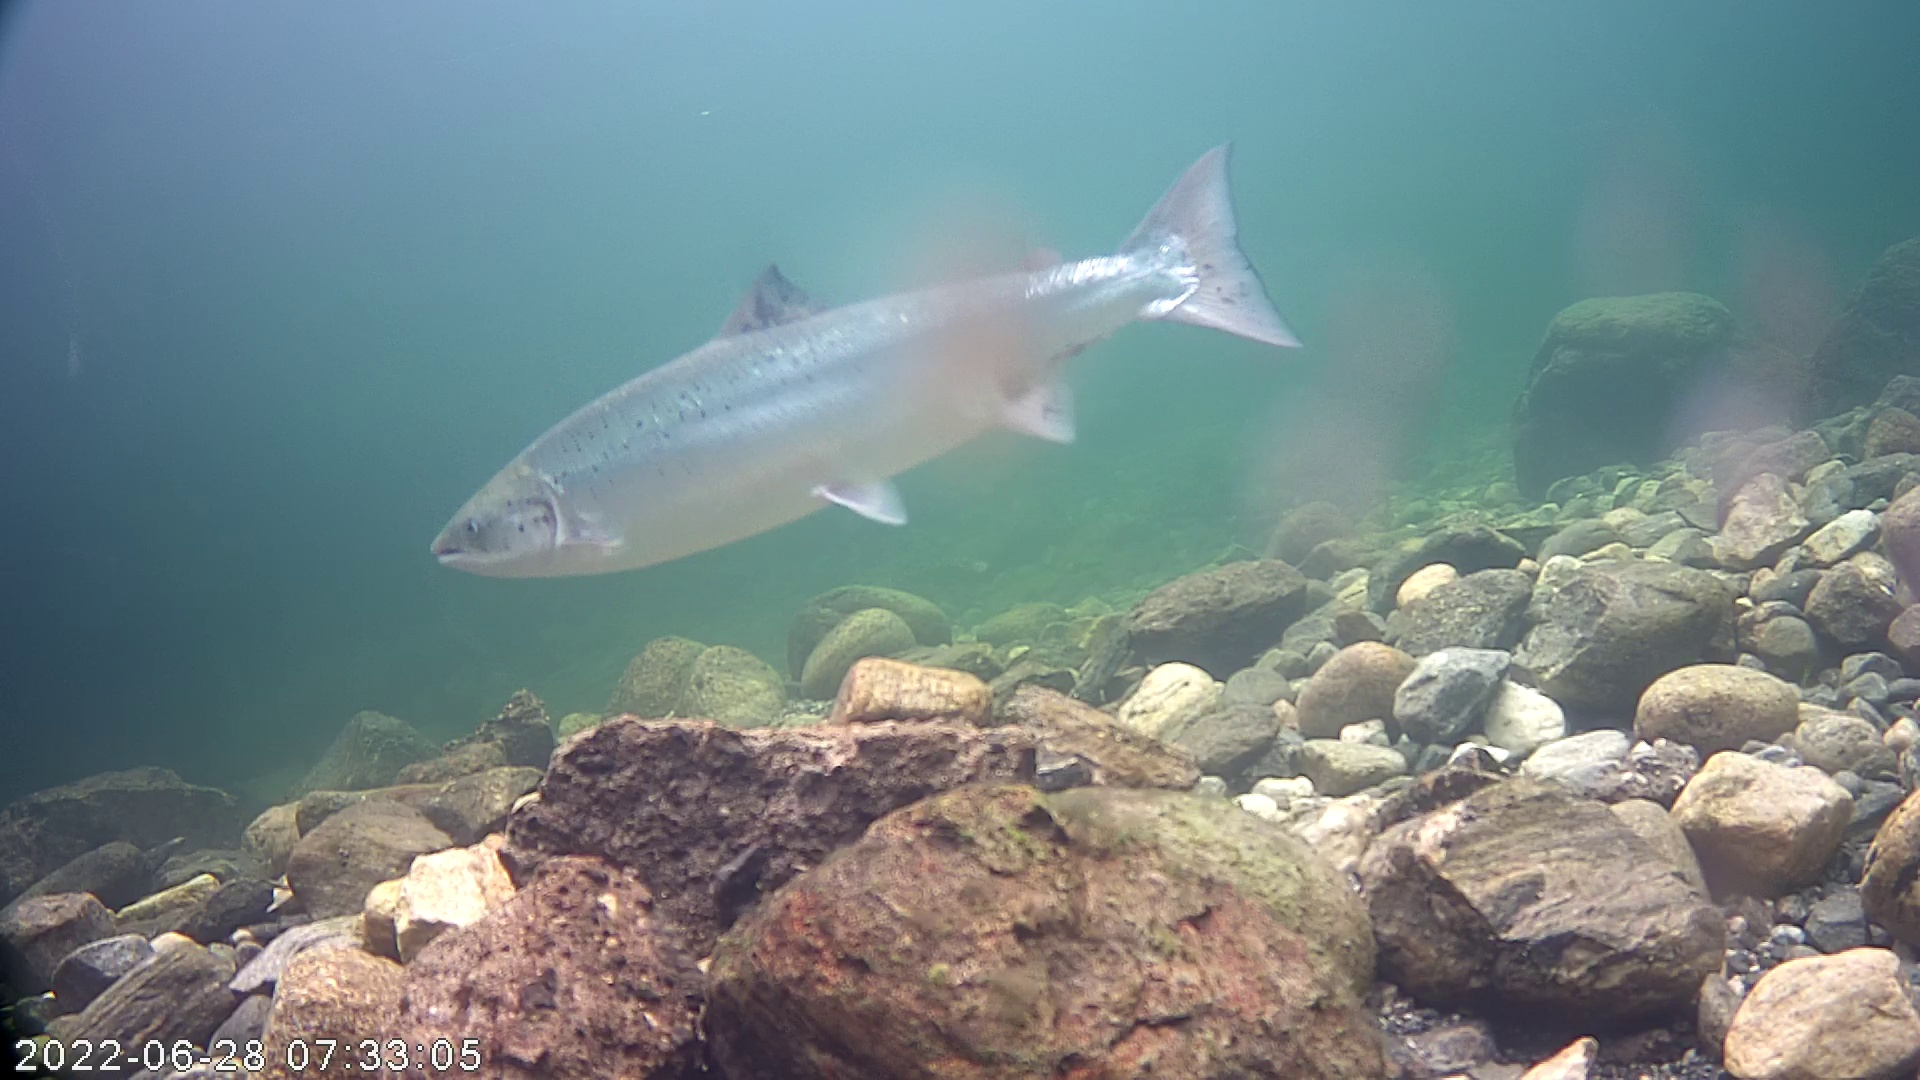salmon: (426, 109, 1331, 611)
